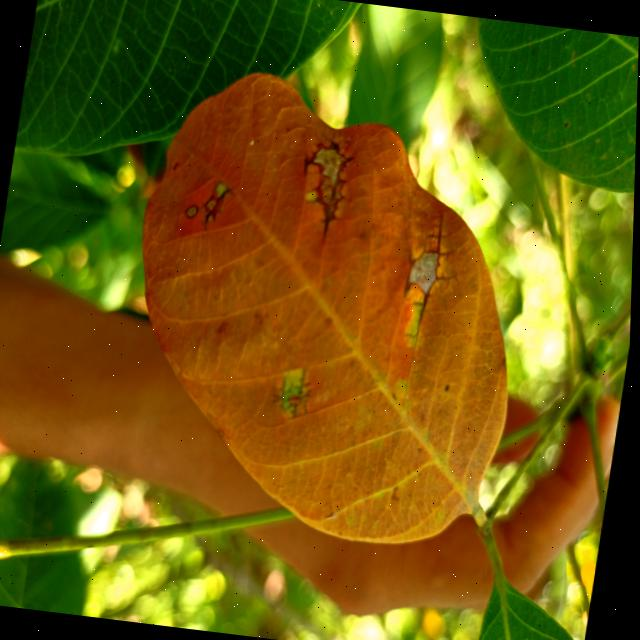Colletotrichum: (183, 204, 200, 220), (447, 384, 452, 392)
Corynespora: (395, 209, 469, 362), (293, 137, 359, 245), (269, 363, 319, 422), (200, 179, 236, 236)
Leaf-Blight: (311, 144, 347, 188), (408, 249, 442, 295)
